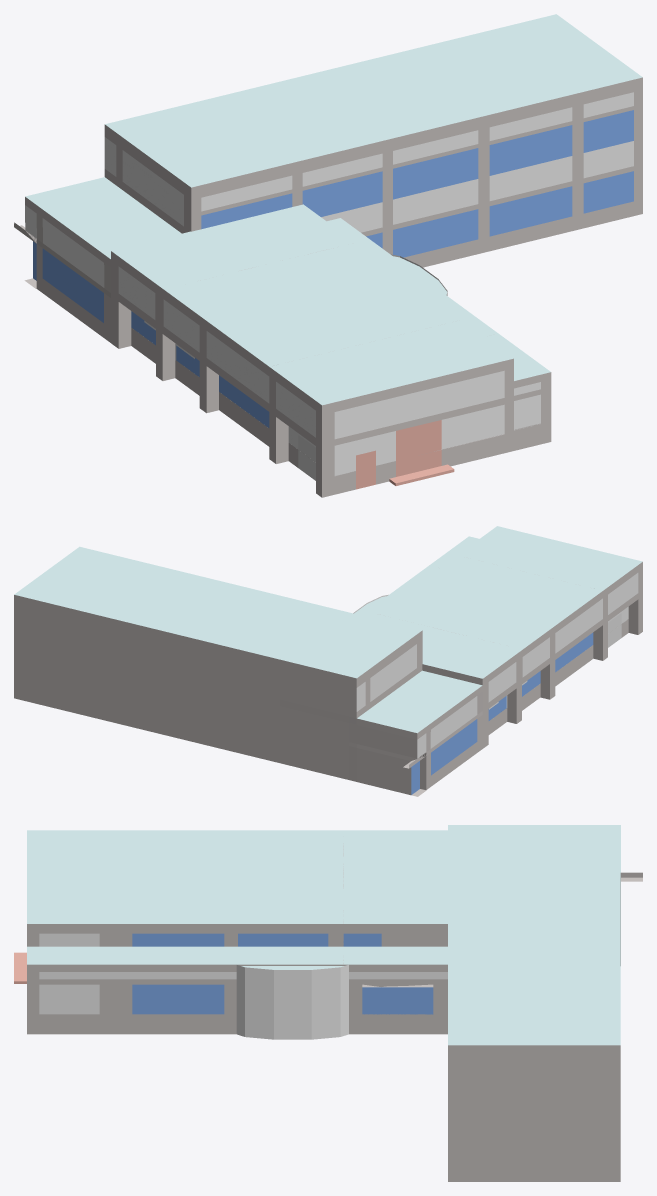
Rendered from sande.glb.
3 renders of one model, top to bottom at view 1: azimuth 30°, elevation 25°; view 2: azimuth 150°, elevation 25°; view 3: azimuth 270°, elevation 25°, orthographic. The views are drawn at different scales.
Parts seen in each view (by area): view 1: 立方体.031, 立方体.001, 立方体.402, 立方体.404; view 2: 立方体.031, 立方体.001, 立方体.402, 立方体.404; view 3: 立方体.001, 立方体.031, 平面.005.
Boxes of the visible parts, x1,y1,x2,y2 form: 立方体.031: [14, 14, 642, 342]; 立方体.001: [111, 204, 551, 497]; 立方体.402: [199, 361, 218, 413]; 立方体.404: [156, 329, 175, 380]; 立方体.031: [14, 546, 482, 796]; 立方体.001: [361, 526, 642, 748]; 立方体.402: [540, 660, 555, 699]; 立方体.404: [507, 685, 521, 723]; 立方体.001: [27, 830, 447, 1034]; 立方体.031: [448, 825, 642, 1181]; 平面.005: [236, 965, 348, 1039].
Bounding box in the file's own units: 10.9 × 2.67 × 11.17.
Materials: 1 (1 with a texture image).
